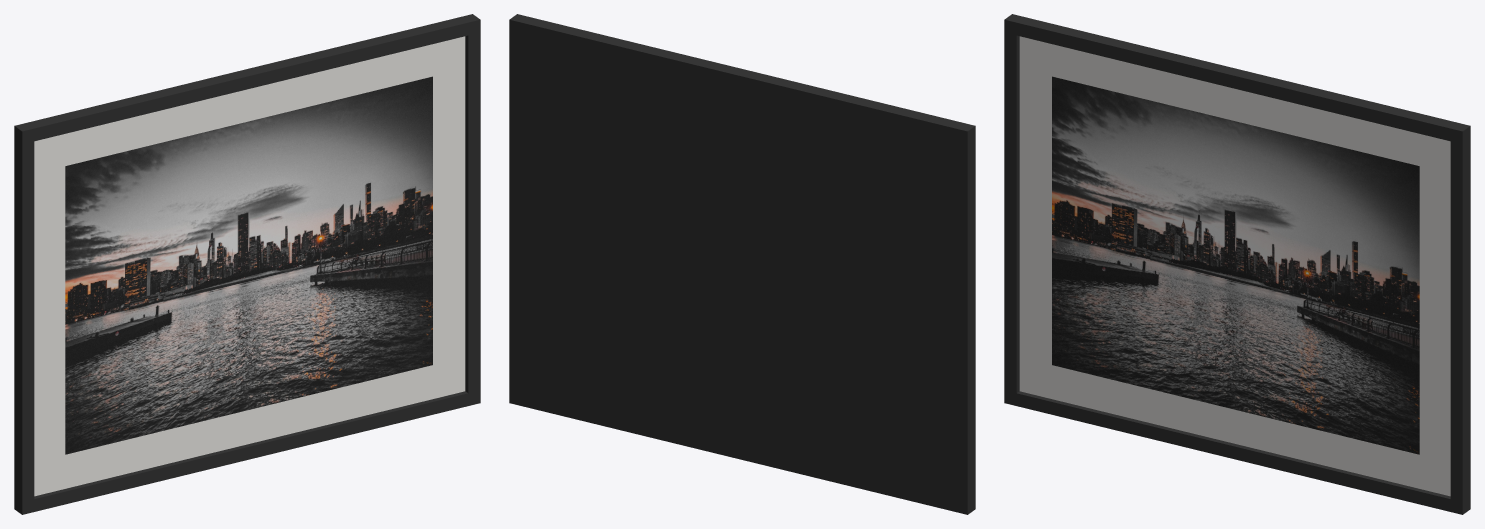
File: manhattan-60.gltf
3 views of the same model, side by side, from view 1: azimuth 30°, elevation 25°; view 2: azimuth 150°, elevation 25°; view 3: azimuth 330°, elevation 25° (orthographic).
Parts seen in each view (by area): view 1: tavla; view 2: tavla; view 3: tavla.
Part boxes in pixels (x1,y1,x2,y2): tavla: (14,14,480,514); tavla: (509,14,975,514); tavla: (1004,14,1470,514).
Bounding box in the file's own units: 0.748 × 0.598 × 0.022.
3 materials, 1 textured.
